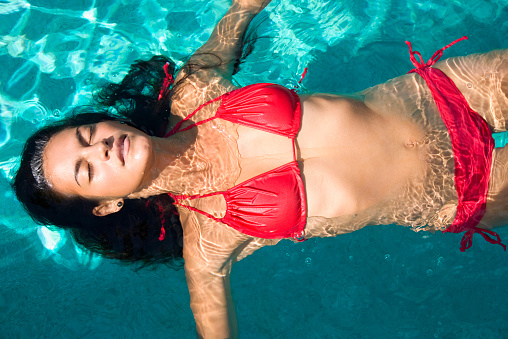deitado: (2, 53, 365, 339)
